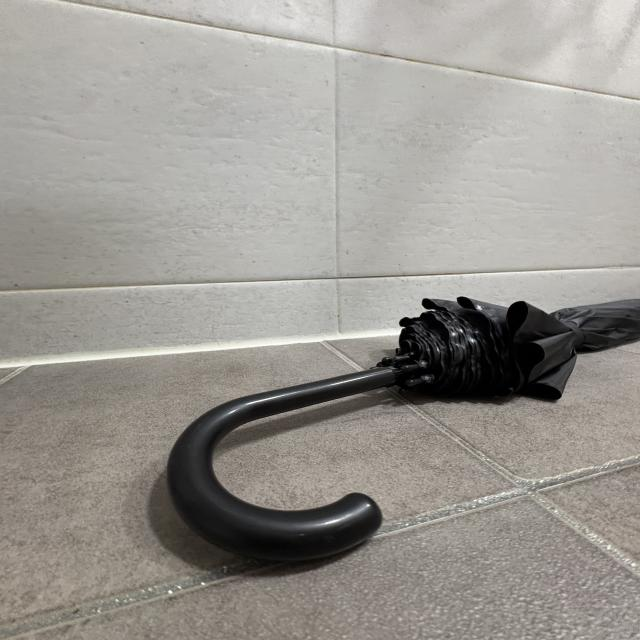umbrella: (167, 295, 640, 559)
